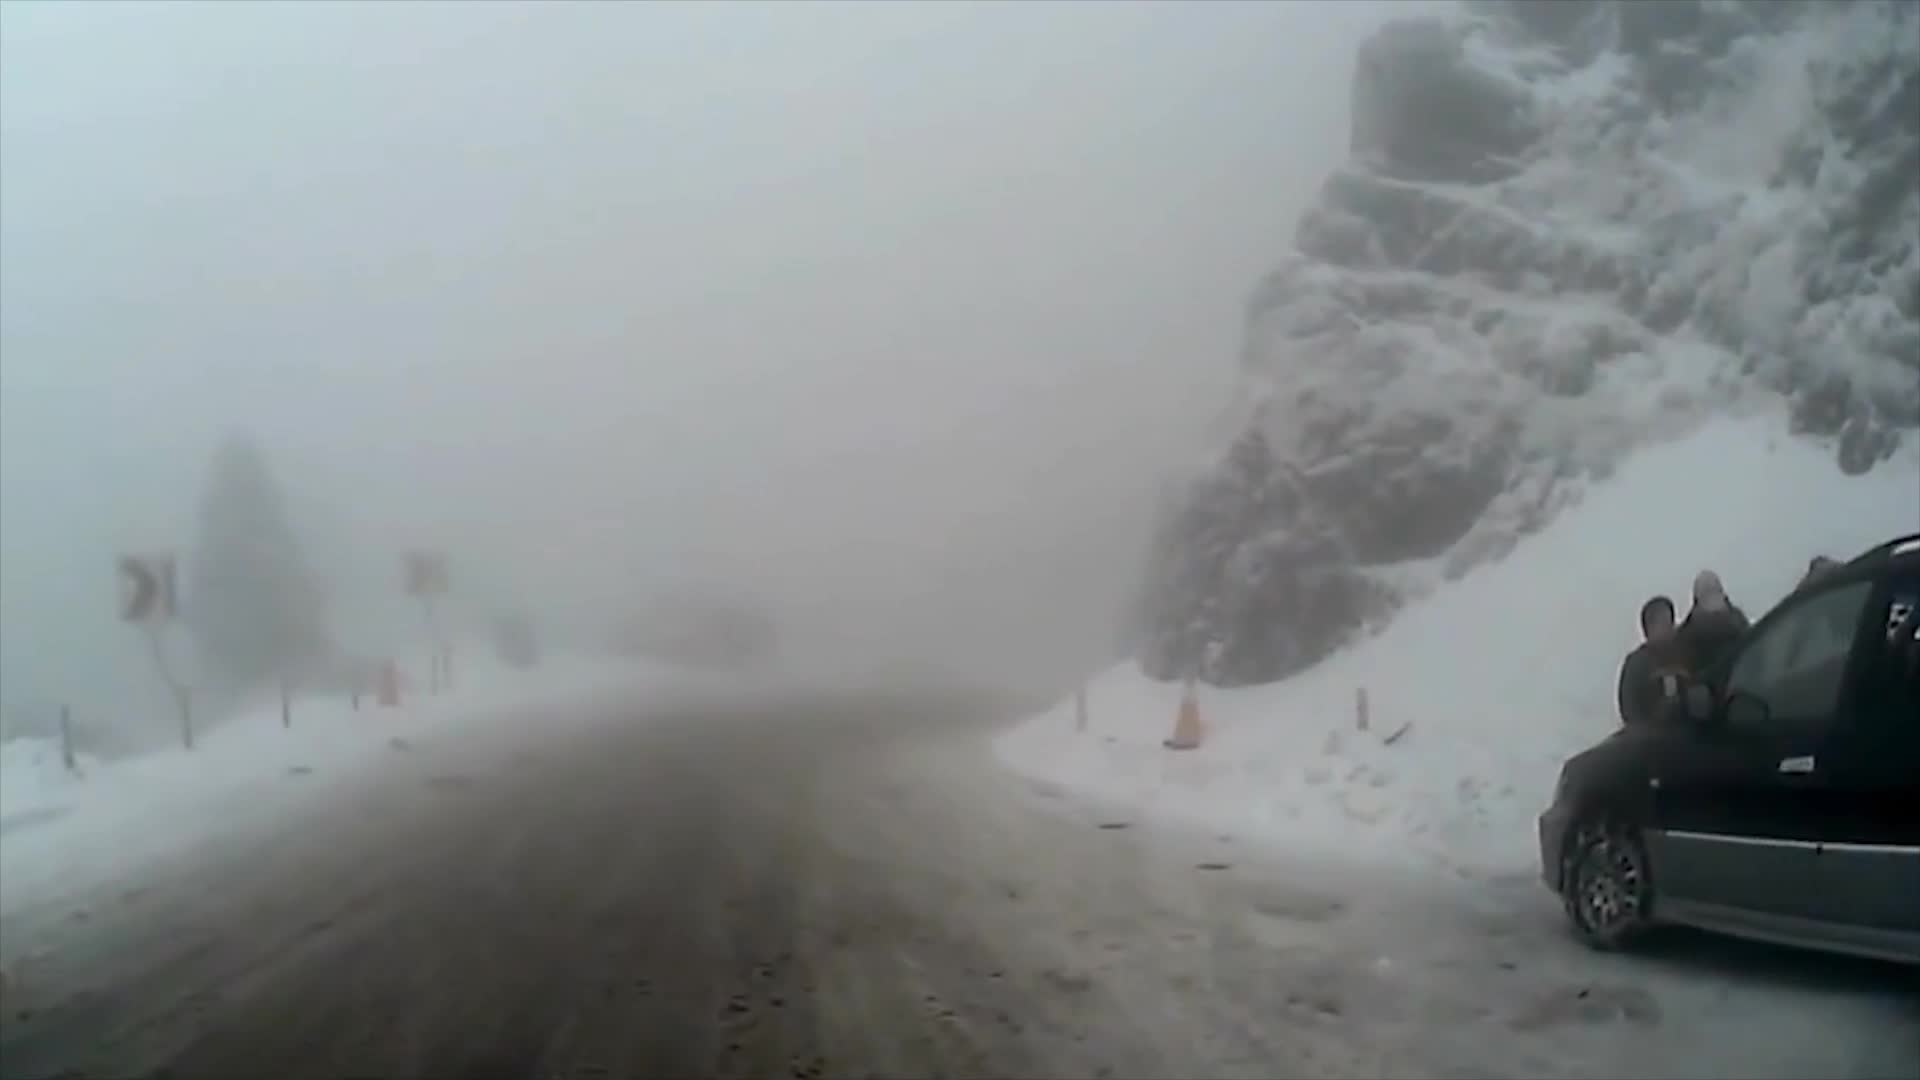pedestrian: (1614, 598, 1705, 900), (1684, 574, 1773, 855)
vehicle: (1537, 537, 1920, 972)
